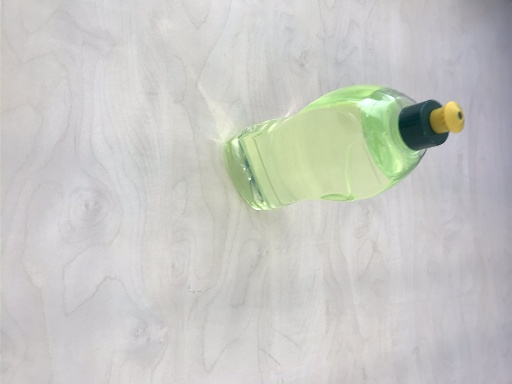Sapone: (222, 82, 468, 211)
